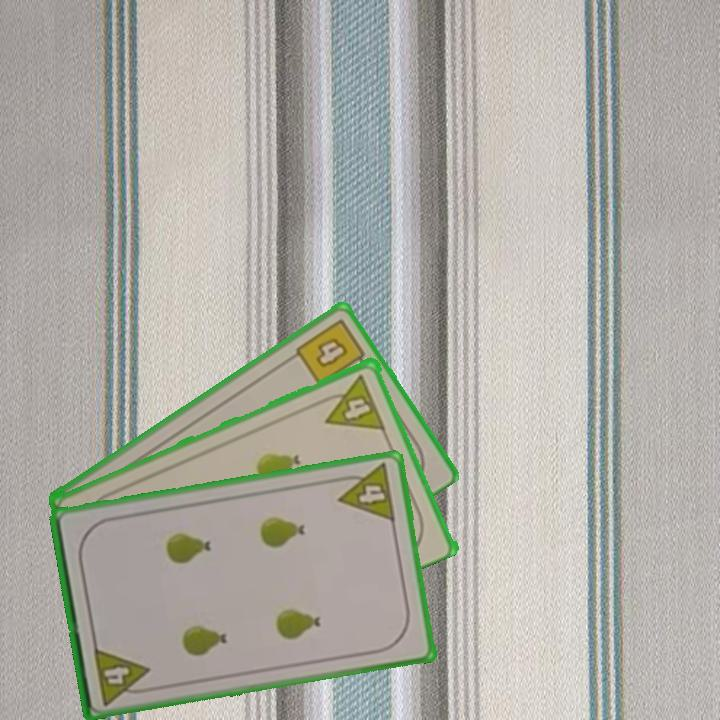4b: (292, 315, 371, 388)
4p: (315, 370, 388, 433), (332, 460, 398, 525), (90, 643, 154, 708)
